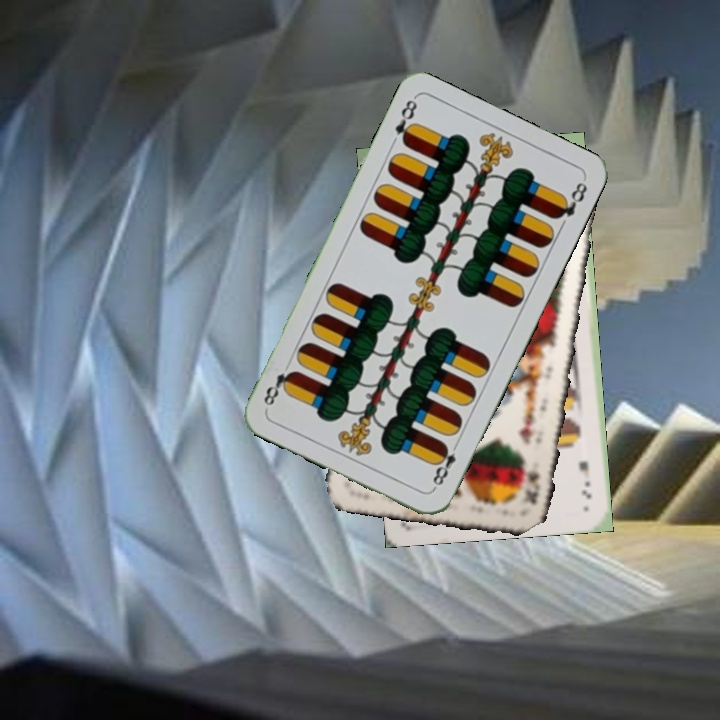E7: (575, 457, 594, 501)
E8: (428, 437, 462, 492), (391, 94, 420, 149)
SK: (519, 455, 543, 507)
